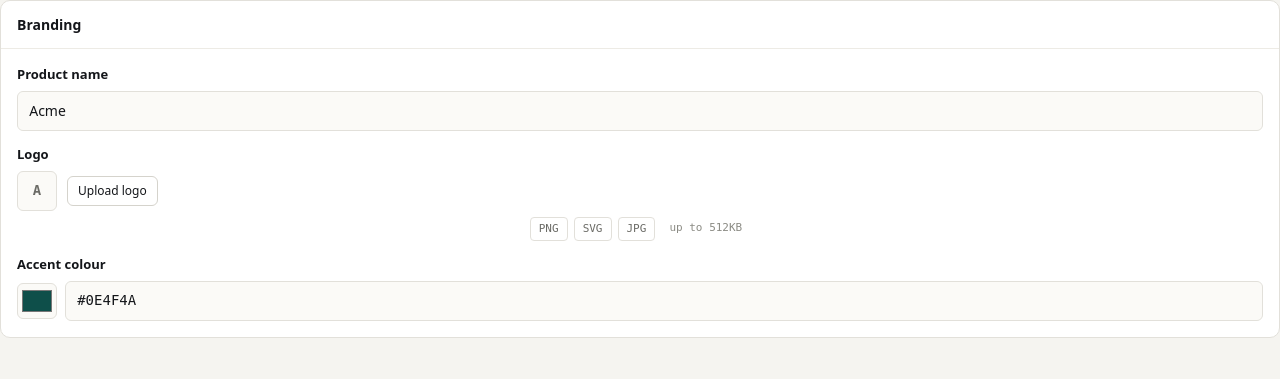
BrandingSection — accent colour contrast (S-5, ADMIN-04) › entering a pale accent renders the warning containing the real computed ratio
The width and height of the screenshot is (1280, 379).
Replace the text in the field named "Accent colour hex value" with "#F5F0C0" at (664, 301), box [65,281,1263,321]
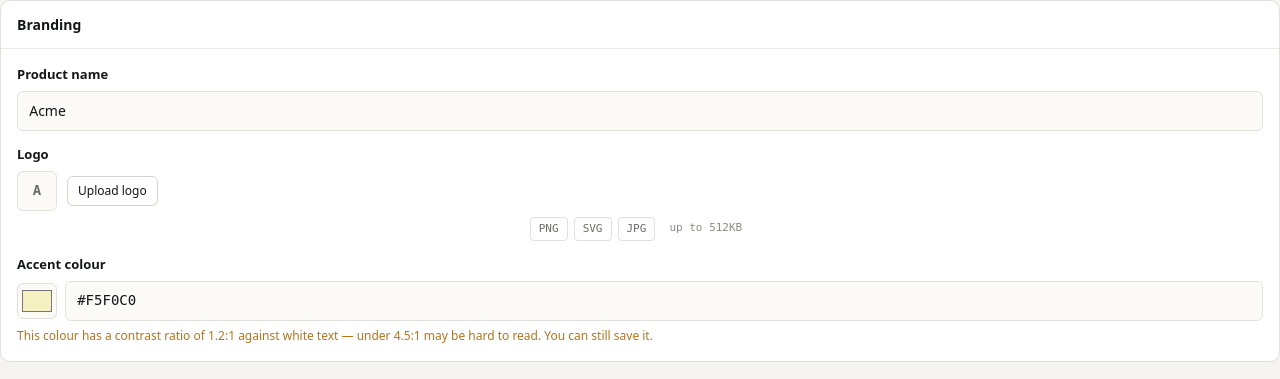
Expected: the text with test id "contrast-warning" shows "You can still save it.", [225,327,653,344]
